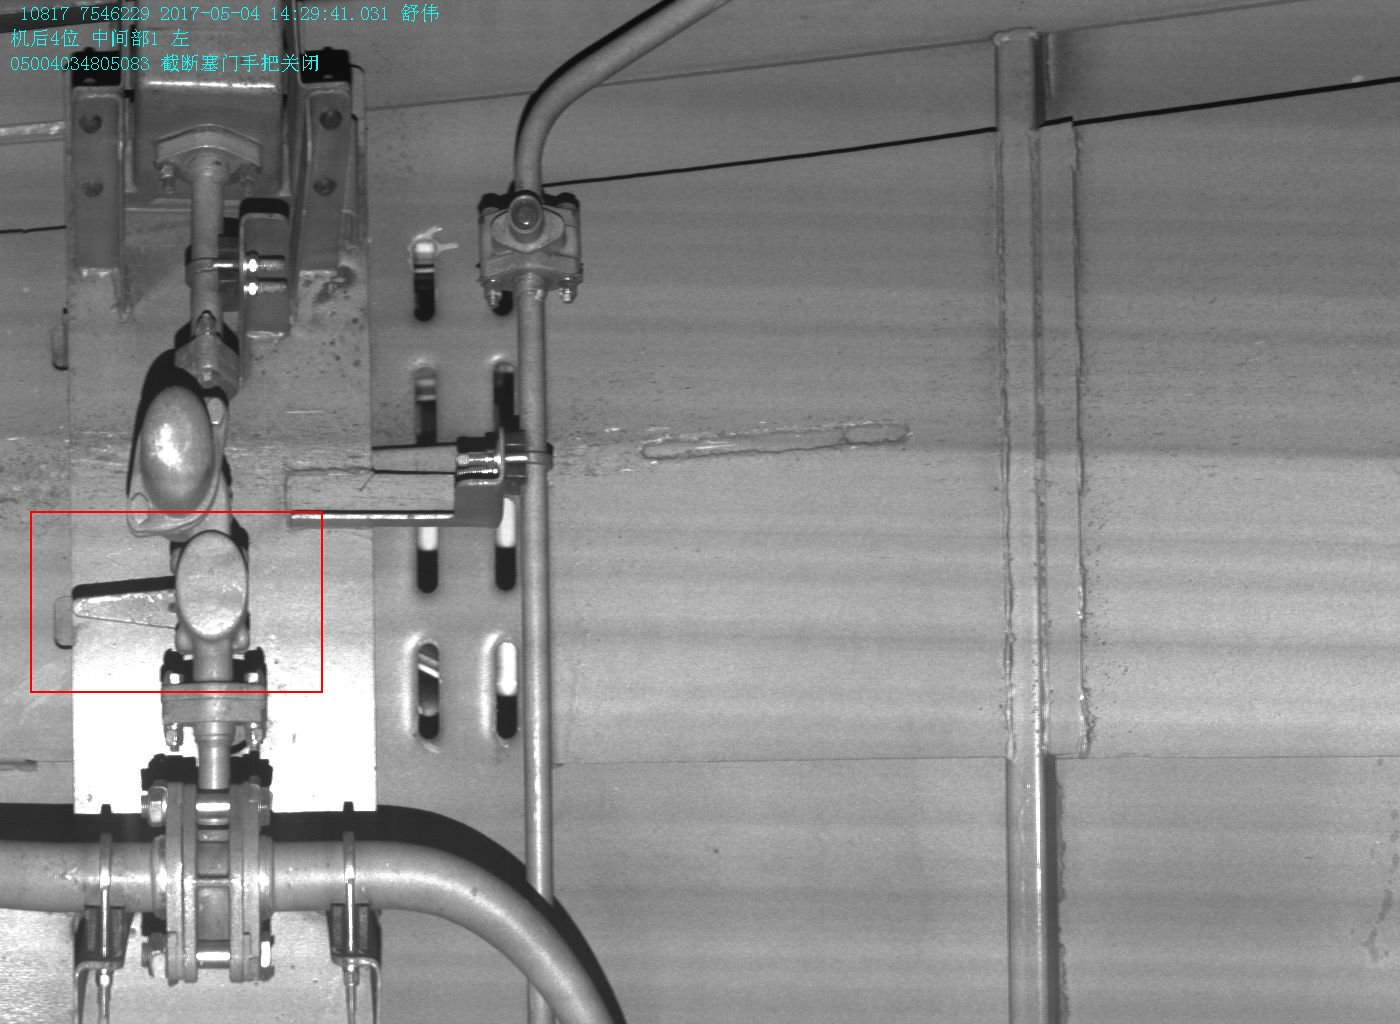truncated plug door handle: (70, 530, 257, 653)
